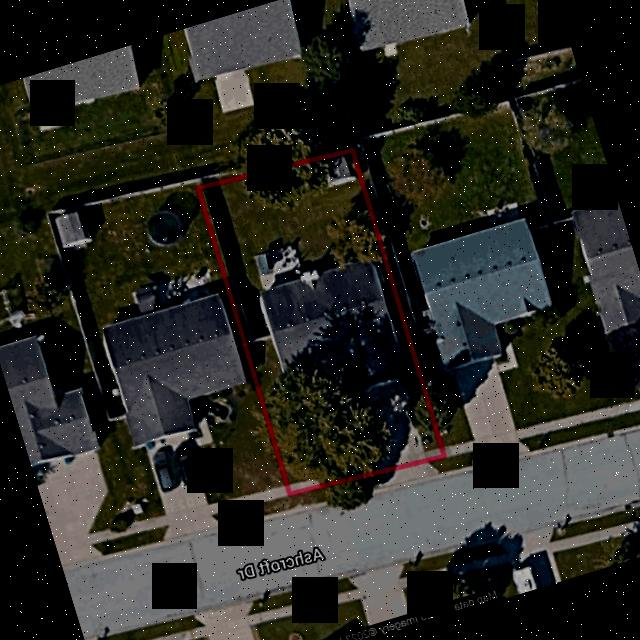Driveway: (360, 376, 424, 469)
Extra Driveway: (372, 462, 441, 490)
Extra Lawn: (287, 486, 325, 507), (427, 456, 450, 473)
House: (259, 257, 395, 374)
Other: (342, 343, 399, 389), (253, 244, 304, 288), (325, 154, 355, 186), (298, 268, 318, 287)
Sidewalk: (288, 478, 317, 490), (422, 447, 439, 458)
